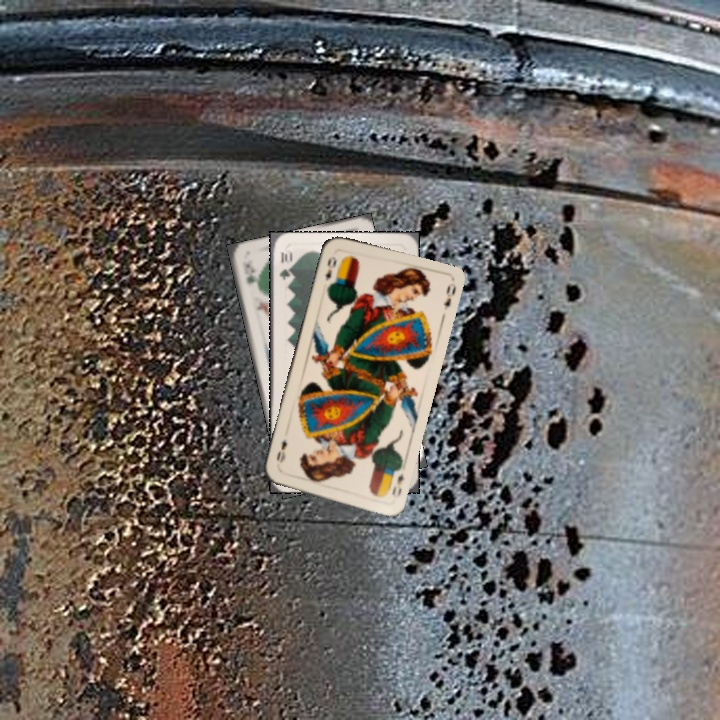EO: (388, 469, 407, 499), (321, 252, 339, 283)
G10: (275, 248, 293, 282)
GK: (241, 259, 258, 287)
